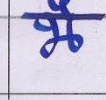au_matra: (55, 0, 84, 41)
